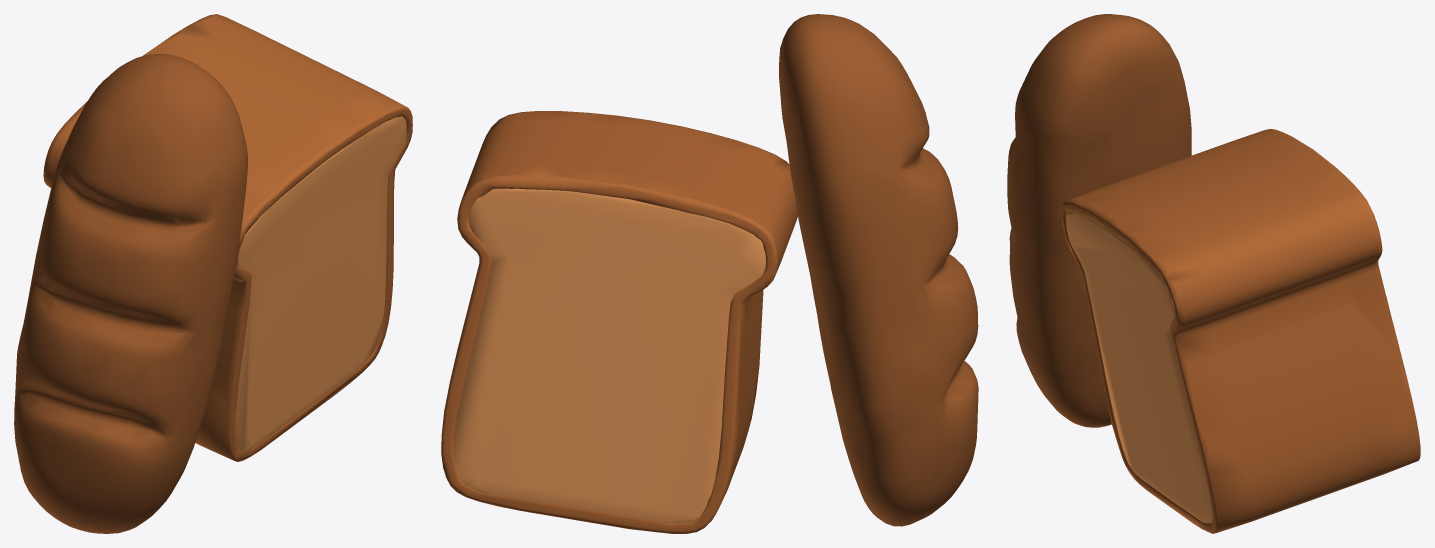
File: bread.glb
3 views of the same model, side by side, from view 1: azimuth 30°, elevation 25°; view 2: azimuth 150°, elevation 25°; view 3: azimuth 270°, elevation 25° (orthographic). The views are drawn at different scales.
Parts seen in each view (by area): view 1: Cube.099, Cube.079, Cube.080; view 2: Cube.079, Cube.099, Cube.080; view 3: Cube.080, Cube.099, Cube.079.
Part boxes in pixels (x1,y1,x2,y2): Cube.099: (14,54,247,533); Cube.079: (235,116,406,451); Cube.080: (43,14,412,461); Cube.079: (453,188,766,523); Cube.099: (779,14,978,526); Cube.080: (441,111,797,533); Cube.080: (1061,129,1420,533); Cube.099: (1007,14,1191,427); Cube.079: (1065,211,1212,523).
Bounding box in the file's own units: 2.1 × 2.14 × 1.84.
